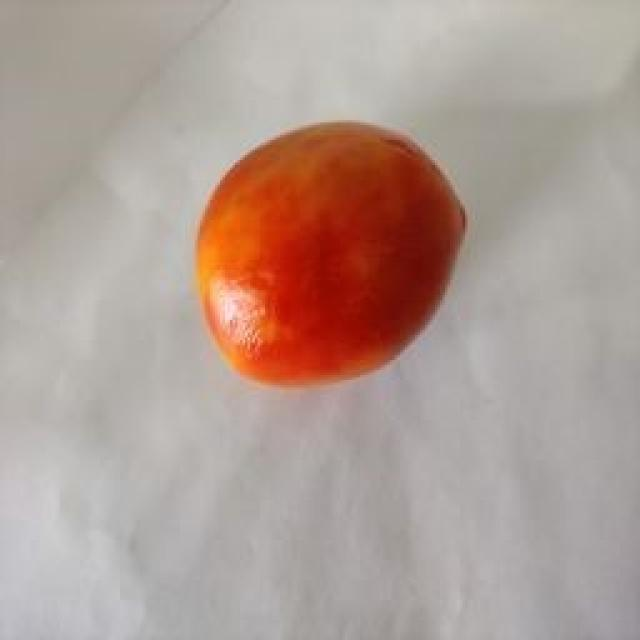Ripe: (186, 116, 473, 395)
